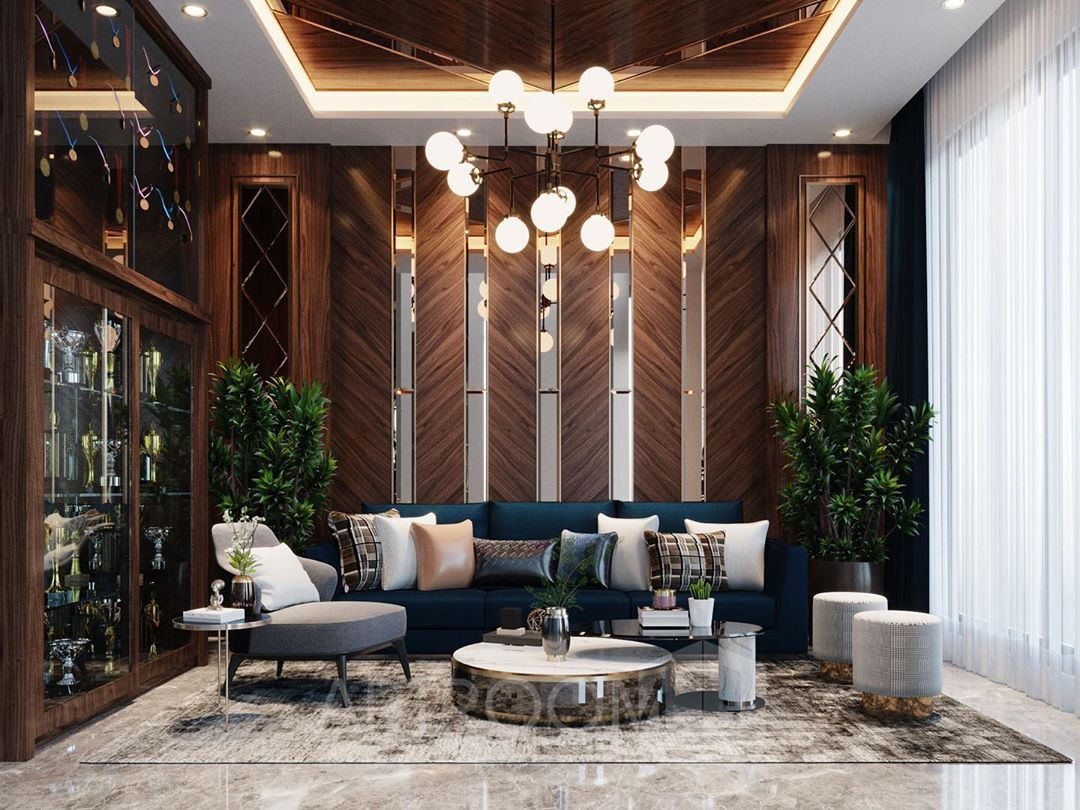bantal: (646, 532, 729, 592), (596, 513, 655, 592), (475, 535, 555, 592), (416, 522, 477, 588), (335, 512, 387, 589), (557, 529, 613, 589), (387, 514, 431, 590), (688, 578, 713, 625), (635, 607, 690, 628)
buku: (184, 606, 245, 622)
kursi: (214, 522, 408, 692)
meja: (449, 640, 680, 721)
sova: (374, 499, 808, 656)
tanaman: (775, 366, 932, 564), (210, 362, 332, 535), (226, 538, 256, 610)
